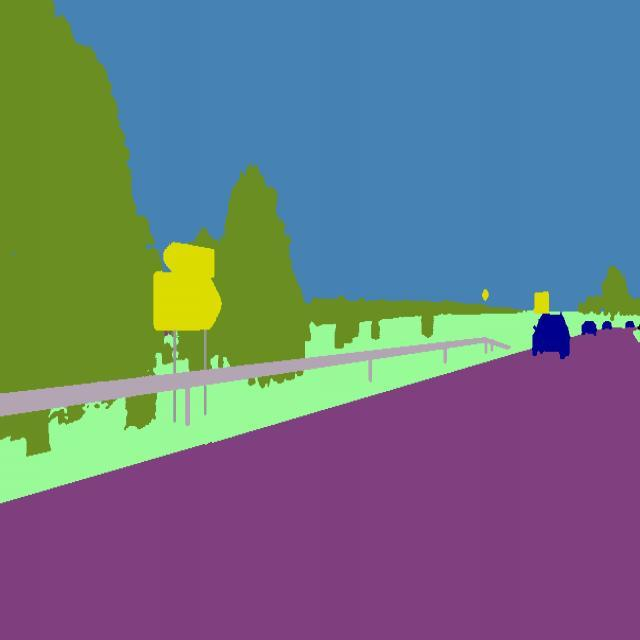safe: (531, 310, 571, 361), (580, 318, 598, 339), (602, 319, 614, 332)
